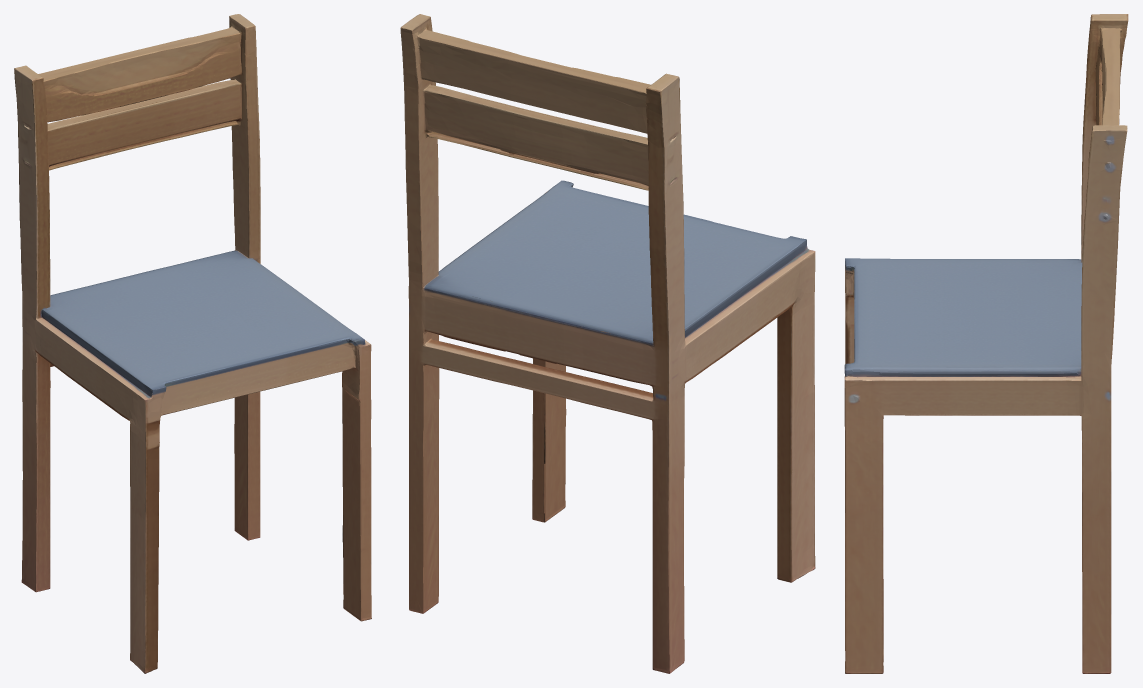
File: appearance_edited_mesh.glb
3 renders of one model, left to right at view 1: azimuth 30°, elevation 25°; view 2: azimuth 150°, elevation 25°; view 3: azimuth 270°, elevation 25°, orthographic. The views are drawn at different scales.
Visible parts, largest first — view 1: world; view 2: world; view 3: world.
Part boxes in pixels (x1=…): world: x1=14, y1=14, x2=371, y2=673; world: x1=400, y1=14, x2=815, y2=673; world: x1=844, y1=14, x2=1128, y2=673.
Bounding box in the file's own units: 0.3965 × 0.8493 × 0.4024.
1 material, 1 textured.
